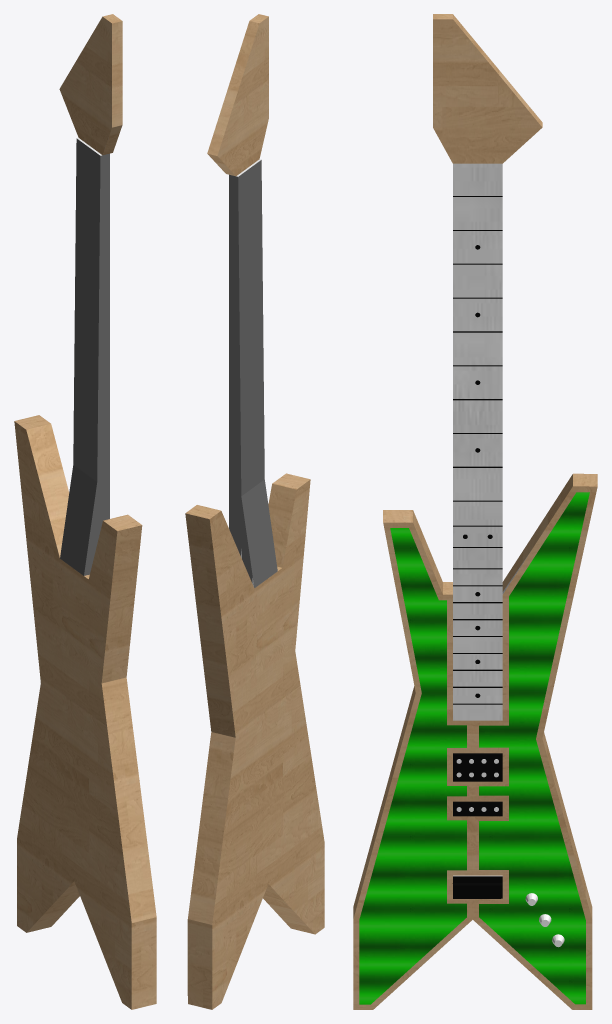
3 views of the same model, side by side, from view 1: azimuth 30°, elevation 25°; view 2: azimuth 150°, elevation 25°; view 3: azimuth 270°, elevation 25° (orthographic). The views are drawn at different scales.
Parts seen in each view (by area): view 1: mesh1-geometry-0, mesh1-geometry-2; view 2: mesh1-geometry-0, mesh1-geometry-2; view 3: mesh1-geometry-3, mesh1-geometry-0, mesh1-geometry-4, mesh1-geometry-5, mesh1-geometry-1.
Part boxes in pixels (<box>): mesh1-geometry-0: <box>14,14,156,1009</box>; mesh1-geometry-2: <box>60,138,109,575</box>; mesh1-geometry-0: <box>185,14,324,1009</box>; mesh1-geometry-2: <box>229,160,277,587</box>; mesh1-geometry-3: <box>359,492,589,1004</box>; mesh1-geometry-0: <box>353,14,597,1009</box>; mesh1-geometry-4: <box>453,163,502,720</box>; mesh1-geometry-5: <box>452,196,502,898</box>; mesh1-geometry-1: <box>453,551,564,947</box>.
Bounding box in the file's own units: 0.0344 × 0.9754 × 0.2177.
